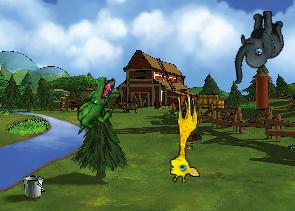crocodile: (75, 74, 116, 136)
elephant: (225, 8, 289, 84)
giraffe: (165, 92, 200, 183)
